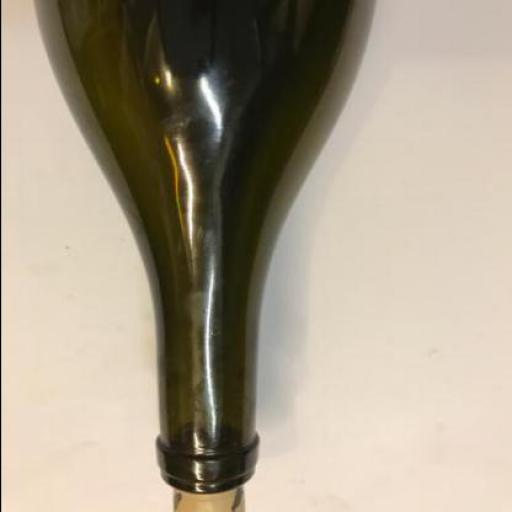glass: (59, 0, 372, 496)
